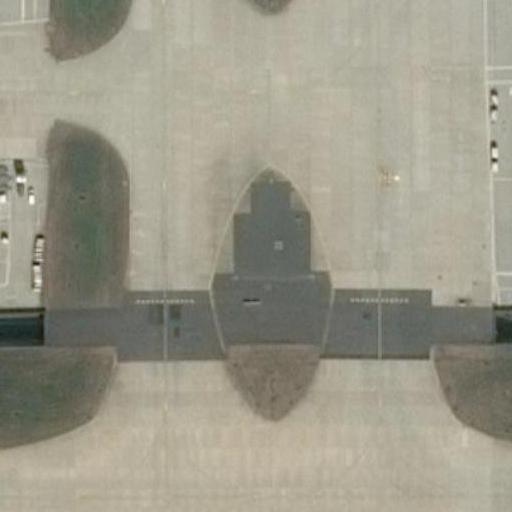Aircraft: (510, 0, 512, 60)
